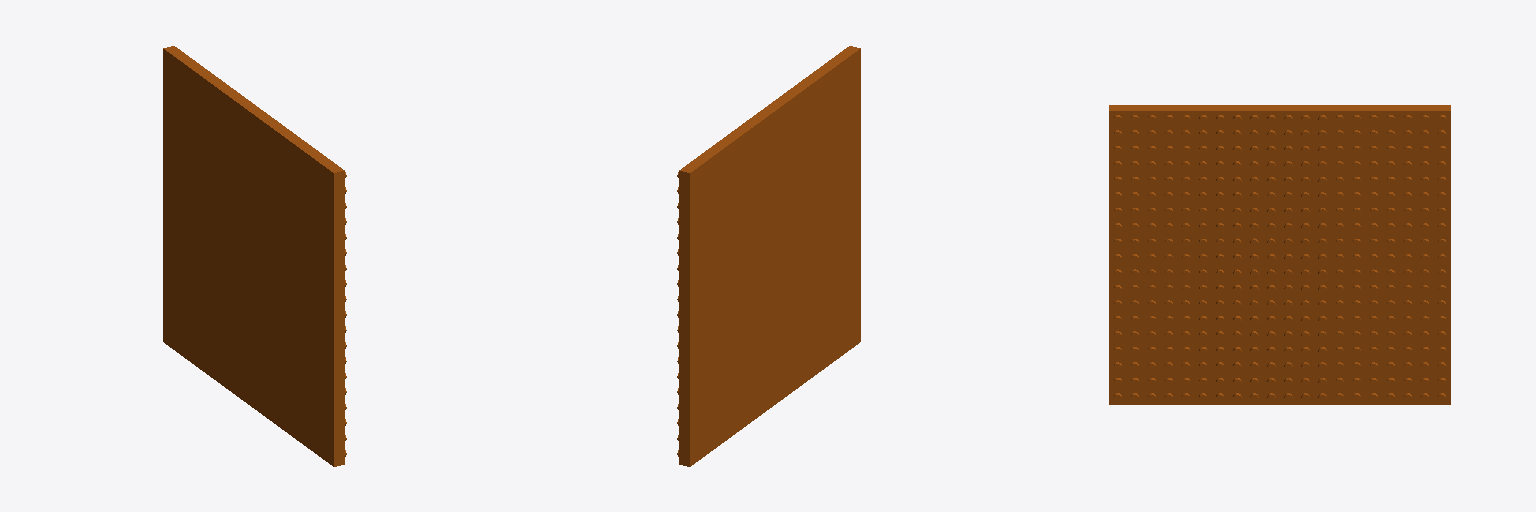
The picture shows the model from 3 angles: view 1: azimuth 30°, elevation 25°; view 2: azimuth 150°, elevation 25°; view 3: azimuth 270°, elevation 25°; orthographic projection.
Visible parts, largest first — view 1: Cylinder001; view 2: Cylinder001; view 3: Cylinder001.
Boxes of the visible parts, x1=… form: Cylinder001: x1=163, y1=46, x2=346, y2=466; Cylinder001: x1=677, y1=46, x2=860, y2=466; Cylinder001: x1=1109, y1=105, x2=1450, y2=404.
Size of the model in its own units: 1 by 19 by 20.
1 materials, 1 textured.